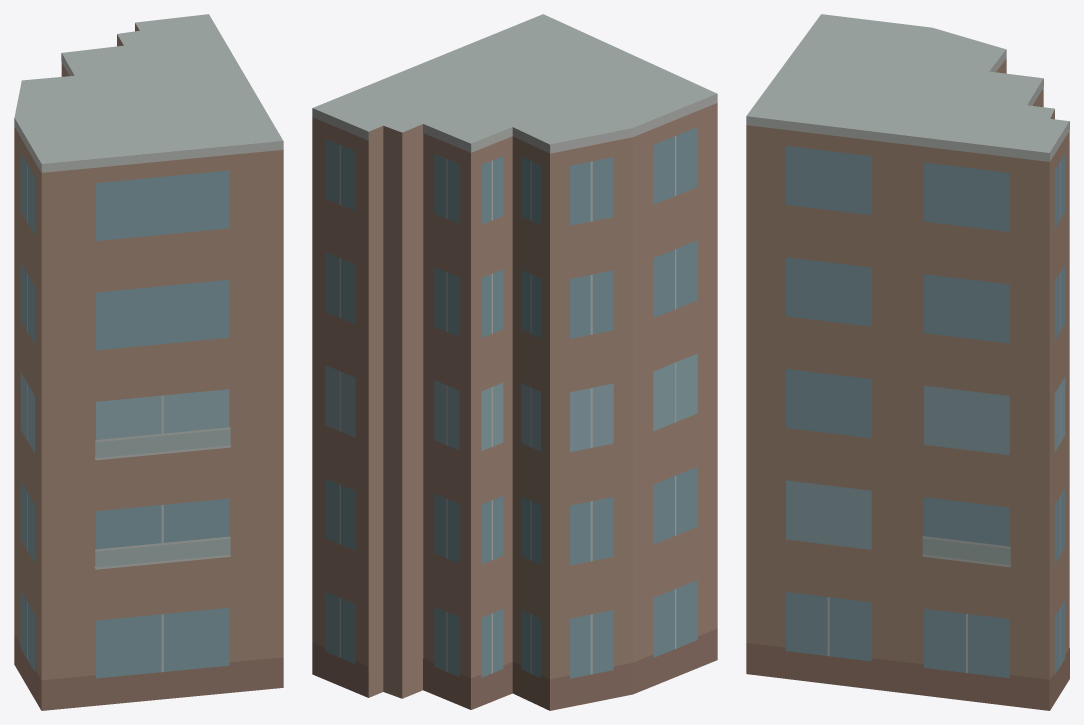
File: survey-upis-32472868.glb
3 renders of one model, left to right at view 1: azimuth 30°, elevation 25°; view 2: azimuth 150°, elevation 25°; view 3: azimuth 270°, elevation 25°, orthographic. The views are drawn at different scales.
Parts seen in each view (by area): view 1: survey-upis-32472868.tmp; view 2: survey-upis-32472868.tmp; view 3: survey-upis-32472868.tmp.
Boxes of the visible parts, bbox=[...] form: survey-upis-32472868.tmp: bbox=[14, 14, 283, 710]; survey-upis-32472868.tmp: bbox=[312, 14, 717, 710]; survey-upis-32472868.tmp: bbox=[746, 14, 1069, 710].
Bounding box in the file's own units: 8.16 × 15.25 × 8.03.
